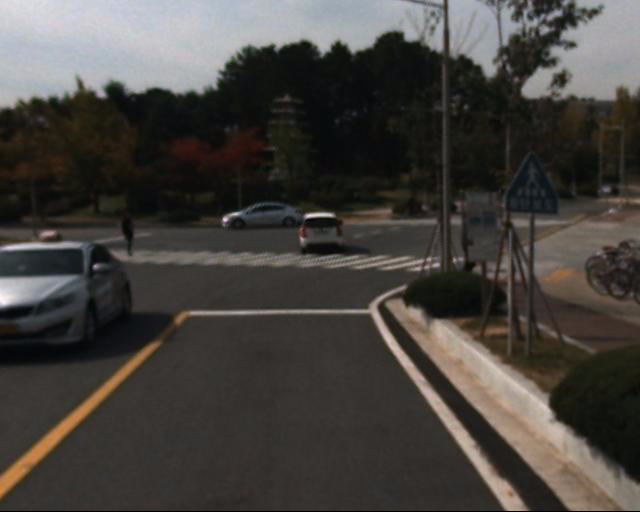person: (451, 194, 501, 298), (117, 207, 144, 268)
